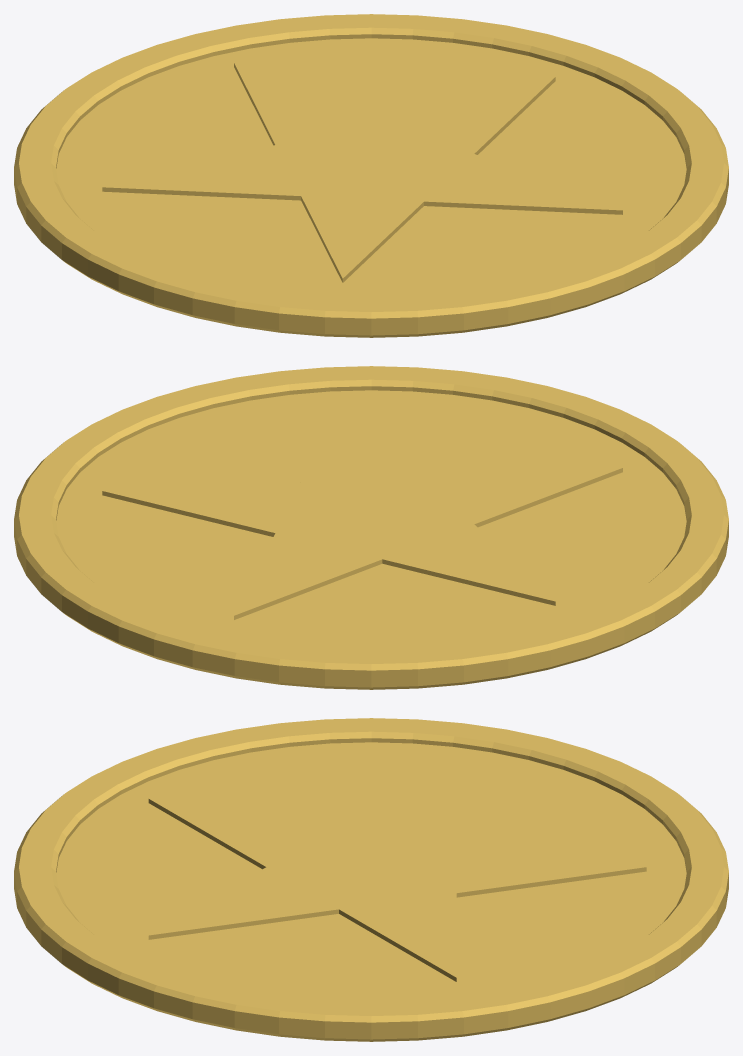
The model's file is coin.fbx.
The picture shows the model from 3 angles, top to bottom: view 1: azimuth 30°, elevation 25°; view 2: azimuth 150°, elevation 25°; view 3: azimuth 270°, elevation 25°; orthographic projection.
Parts seen in each view (by area): view 1: Cylinder.001; view 2: Cylinder.001; view 3: Cylinder.001.
Boxes of the visible parts, left/top/right/bottom form: Cylinder.001: left=14, top=14, right=728, bottom=337; Cylinder.001: left=14, top=366, right=728, bottom=689; Cylinder.001: left=14, top=718, right=728, bottom=1041.
Size of the model in its own units: 324 by 12.86 by 324.
